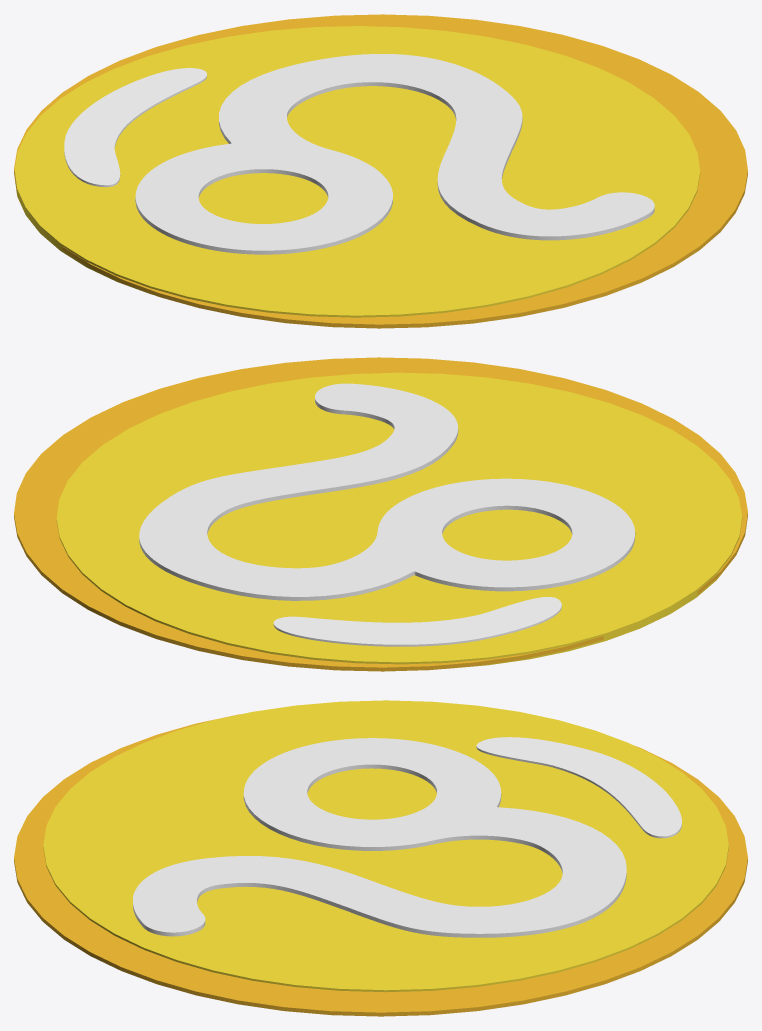
The model's file is emoji_u264c.glb.
3 renders of one model, top to bottom at view 1: azimuth 30°, elevation 25°; view 2: azimuth 150°, elevation 25°; view 3: azimuth 270°, elevation 25°, orthographic.
Parts seen in each view (by area): view 1: emoji_u264c; view 2: emoji_u264c; view 3: emoji_u264c.
Part boxes in pixels (<box>): emoji_u264c: <box>14,14,747,328</box>; emoji_u264c: <box>14,357,747,671</box>; emoji_u264c: <box>14,700,747,1016</box>.
Size of the model in its own units: 0.0339 by 0.0008 by 0.0339.
